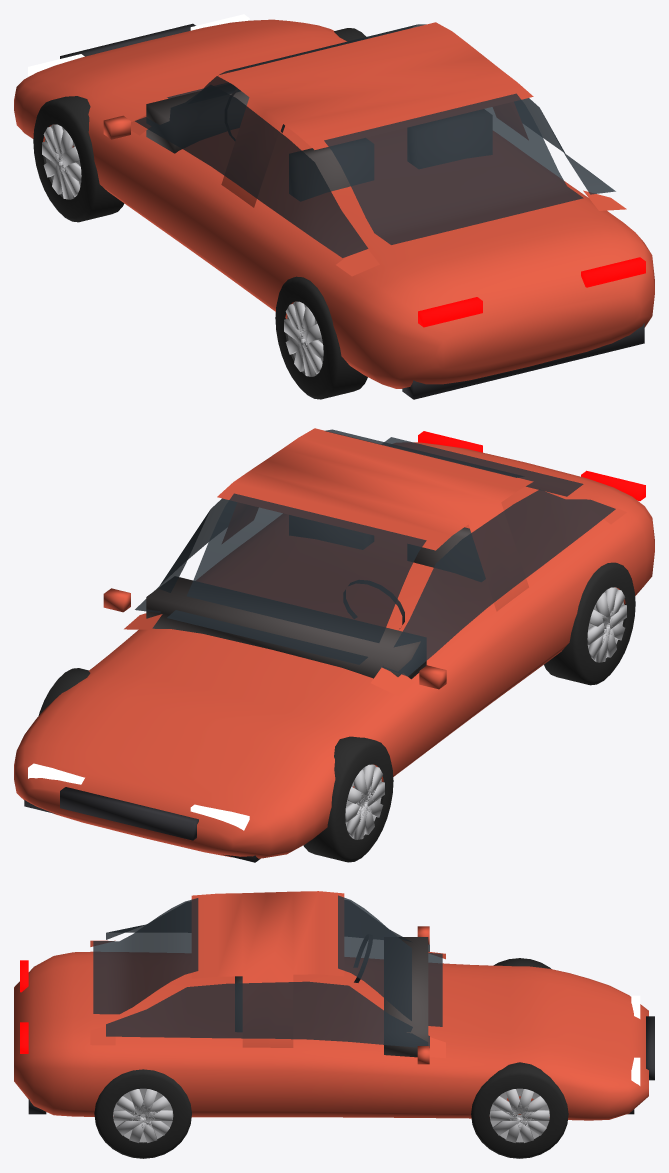
File: car04_arrow.glb
3 renders of one model, top to bottom at view 1: azimuth 30°, elevation 25°; view 2: azimuth 150°, elevation 25°; view 3: azimuth 270°, elevation 25°, orthographic. The views are drawn at different scales.
Parts seen in each view (by area): view 1: car04_arrow_Body, car04_arrow_Cabin, car04_arrow_GlassRear, car04_arrow_Glass, car04_arrow_Interior, car04_arrow_Wheel_FL, car04_arrow_Wheel_RL, car04_arrow_Lights_Rear, car04_arrow_GlassFront, car04_arrow_Lights_Front; view 2: car04_arrow_Body, car04_arrow_Cabin, car04_arrow_GlassFront, car04_arrow_Interior, car04_arrow_Glass, car04_arrow_Wheel_FL, car04_arrow_Wheel_RL, car04_arrow_GlassRear, car04_arrow_Lights_Rear, car04_arrow_Lights_Front, car04_arrow_Wheel_FR; view 3: car04_arrow_Body, car04_arrow_Cabin, car04_arrow_Glass, car04_arrow_GlassRear, car04_arrow_Wheel_FR, car04_arrow_Wheel_RR, car04_arrow_GlassFront, car04_arrow_Interior, car04_arrow_Lights_Rear, car04_arrow_Lights_Front.
Boxes of the visible parts, bbox=[...] form: car04_arrow_Body: bbox=[14, 19, 654, 399]; car04_arrow_Cabin: bbox=[131, 22, 626, 276]; car04_arrow_GlassRear: bbox=[324, 93, 583, 244]; car04_arrow_Glass: bbox=[135, 84, 615, 257]; car04_arrow_Interior: bbox=[146, 84, 491, 200]; car04_arrow_Wheel_FL: bbox=[33, 96, 124, 222]; car04_arrow_Wheel_RL: bbox=[275, 276, 367, 399]; car04_arrow_Lights_Rear: bbox=[418, 257, 645, 327]; car04_arrow_GlassFront: bbox=[167, 24, 426, 98]; car04_arrow_Lights_Front: bbox=[28, 14, 249, 76]; car04_arrow_Body: bbox=[14, 442, 654, 862]; car04_arrow_Cabin: bbox=[124, 428, 626, 696]; car04_arrow_GlassFront: bbox=[167, 493, 426, 664]; car04_arrow_Interior: bbox=[146, 515, 485, 679]; car04_arrow_Glass: bbox=[135, 489, 615, 676]; car04_arrow_Wheel_FL: bbox=[303, 736, 393, 862]; car04_arrow_Wheel_RL: bbox=[544, 562, 635, 685]; car04_arrow_GlassRear: bbox=[324, 429, 583, 496]; car04_arrow_Lights_Rear: bbox=[418, 431, 645, 501]; car04_arrow_Lights_Front: bbox=[28, 763, 249, 830]; car04_arrow_Wheel_FR: bbox=[38, 668, 90, 715]; car04_arrow_Body: bbox=[14, 926, 654, 1120]; car04_arrow_Cabin: bbox=[90, 891, 445, 1058]; car04_arrow_Glass: bbox=[106, 924, 429, 1047]; car04_arrow_GlassRear: bbox=[93, 898, 198, 1014]; car04_arrow_Wheel_FR: bbox=[471, 1062, 568, 1158]; car04_arrow_Wheel_RR: bbox=[94, 1069, 191, 1158]; car04_arrow_GlassFront: bbox=[338, 895, 442, 1026]; car04_arrow_Interior: bbox=[235, 937, 428, 1057]; car04_arrow_Lights_Rear: bbox=[20, 960, 28, 1053]; car04_arrow_Lights_Front: bbox=[631, 995, 640, 1085].
Size of what is drawn, in the model's own units: 2.04 by 1.28 by 4.34.
